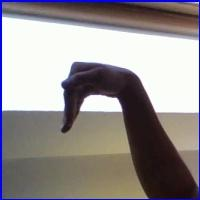A: (58, 56, 141, 140)
